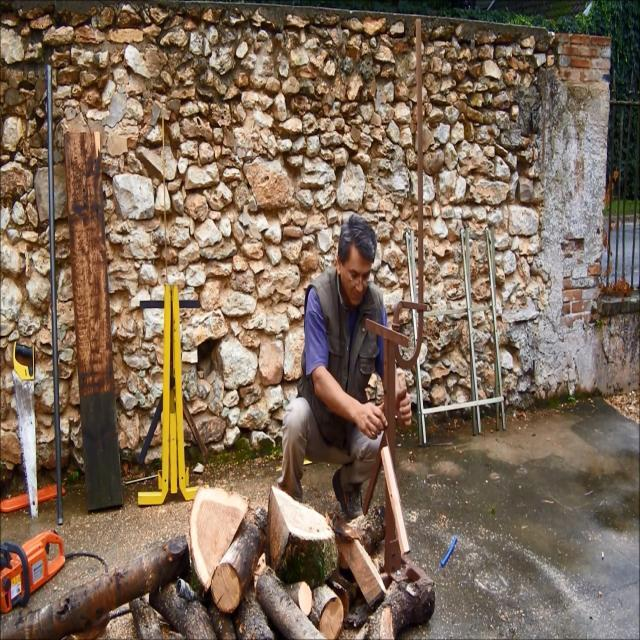Chainsaw: (0, 500, 103, 625)
